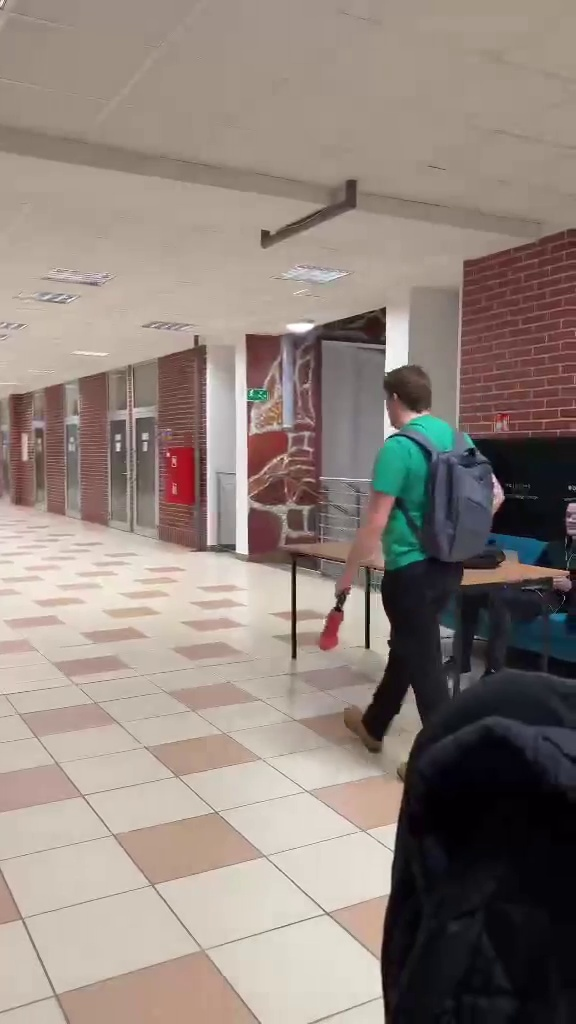no vest: (316, 353, 510, 744)
